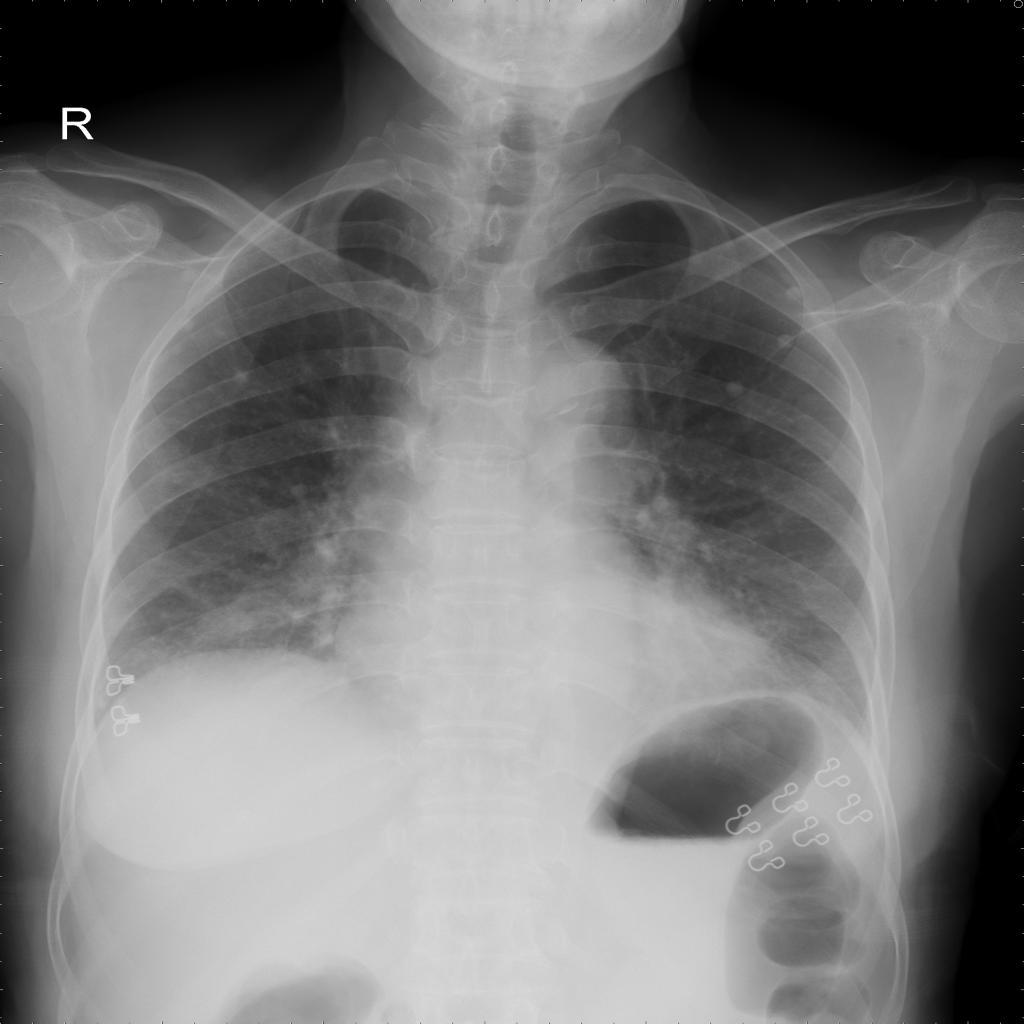Nodule: (727, 275, 821, 398), (171, 270, 253, 391)
